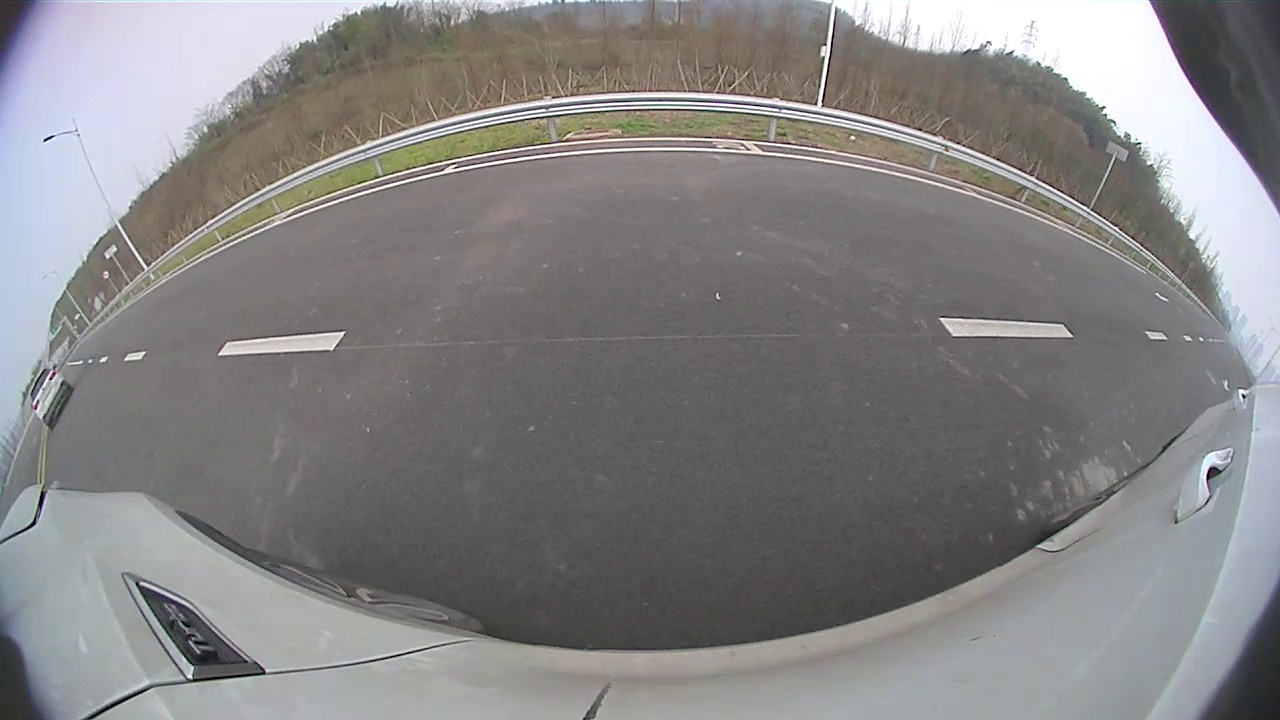car: (27, 366, 75, 431)
